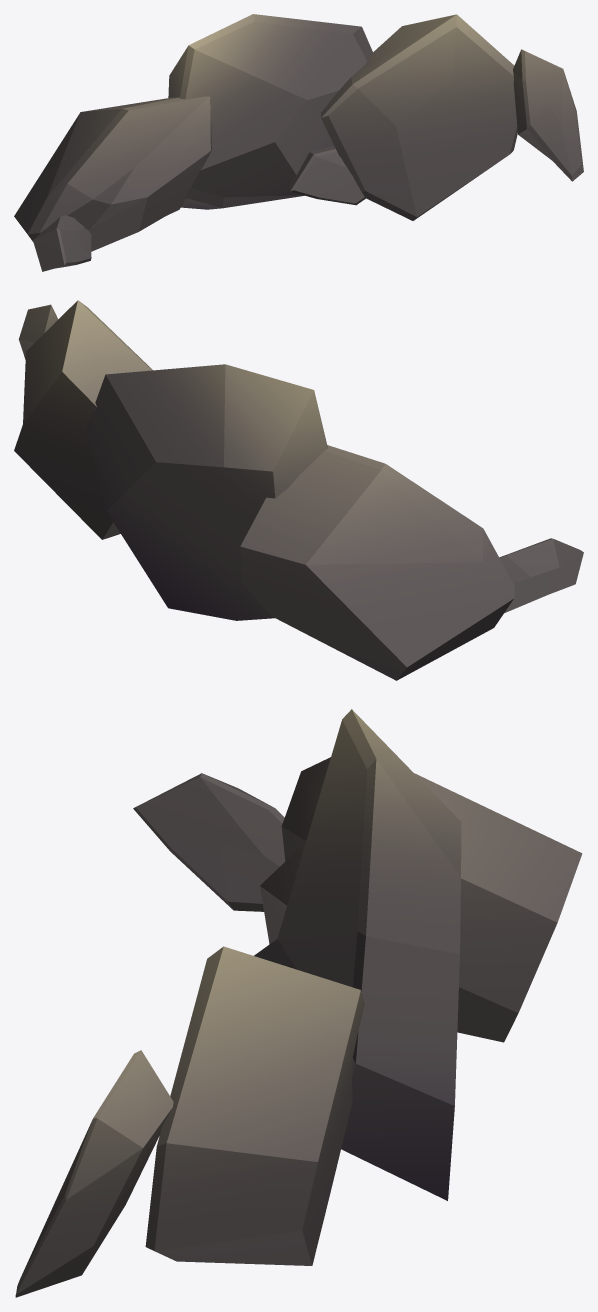
The model's file is Stones_Wall.fbx.
The picture shows the model from 3 angles, top to bottom: view 1: azimuth 30°, elevation 25°; view 2: azimuth 150°, elevation 25°; view 3: azimuth 270°, elevation 25°; orthographic projection. The views are drawn at different scales.
Visible parts, largest first — view 1: Stones_Wall; view 2: Stones_Wall; view 3: Stones_Wall.
Boxes of the visible parts, bbox=[...] form: Stones_Wall: bbox=[14, 14, 583, 271]; Stones_Wall: bbox=[14, 300, 583, 680]; Stones_Wall: bbox=[15, 709, 582, 1297].
Size of the model in its own units: 30.15 by 11.78 by 14.71.
